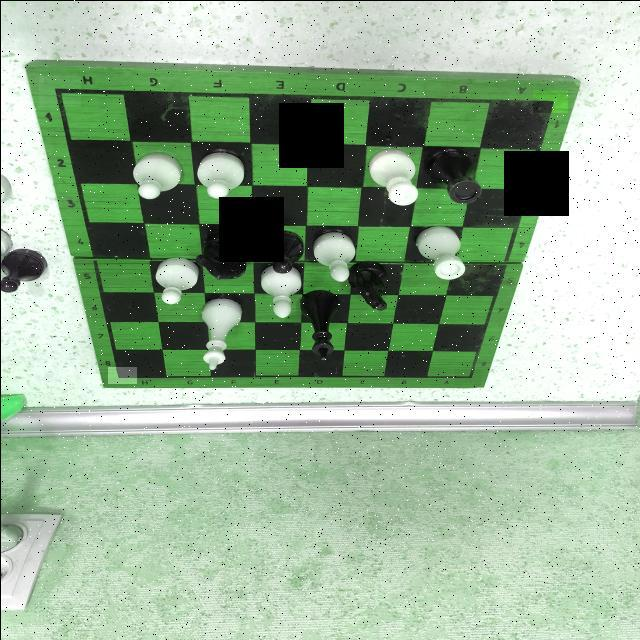chess-table-corners: (38, 75, 80, 106), (532, 89, 567, 112), (107, 366, 136, 383), (454, 368, 480, 384)
